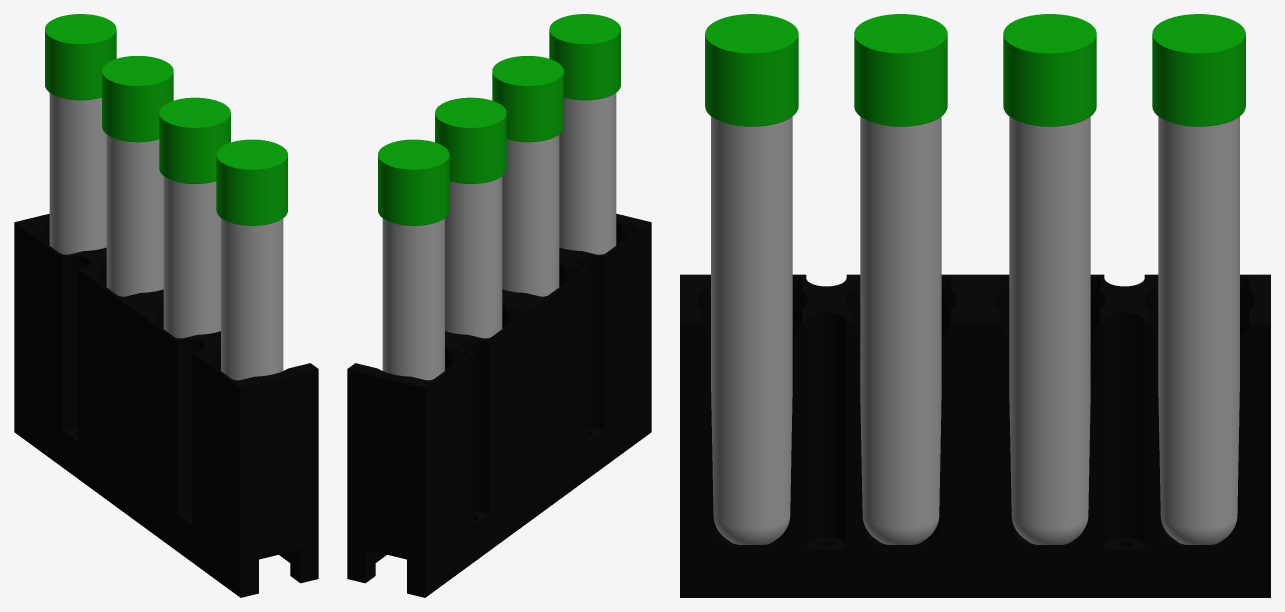
File: 4x_Grnr9ml.gltf
3 views of the same model, side by side, from view 1: azimuth 30°, elevation 25°; view 2: azimuth 150°, elevation 25°; view 3: azimuth 270°, elevation 25° (orthographic). The views are drawn at different scales.
Parts seen in each view (by area): view 1: Frame_body_1_0, Frame_body_1_0_node; view 2: Frame_body_1_0, Frame_body_1_0_node; view 3: Frame_body_1_0, Frame_body_1_0_node.
Part boxes in pixels (x1=…): Frame_body_1_0: x1=14, y1=14, x2=318, y2=597; Frame_body_1_0_node: x1=49, y1=93, x2=283, y2=380; Frame_body_1_0: x1=347, y1=14, x2=651, y2=597; Frame_body_1_0_node: x1=382, y1=93, x2=616, y2=380; Frame_body_1_0: x1=680, y1=14, x2=1270, y2=597; Frame_body_1_0_node: x1=711, y1=116, x2=1239, y2=544.
Bounding box in the file's own units: 22 × 111 × 111.
